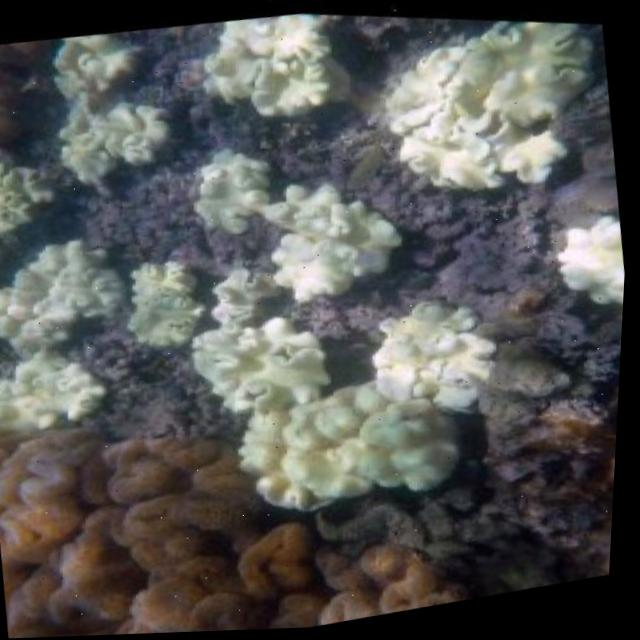Bleached Coral: (198, 0, 640, 517), (0, 3, 272, 435)
Healthy Coral: (0, 377, 478, 640)
